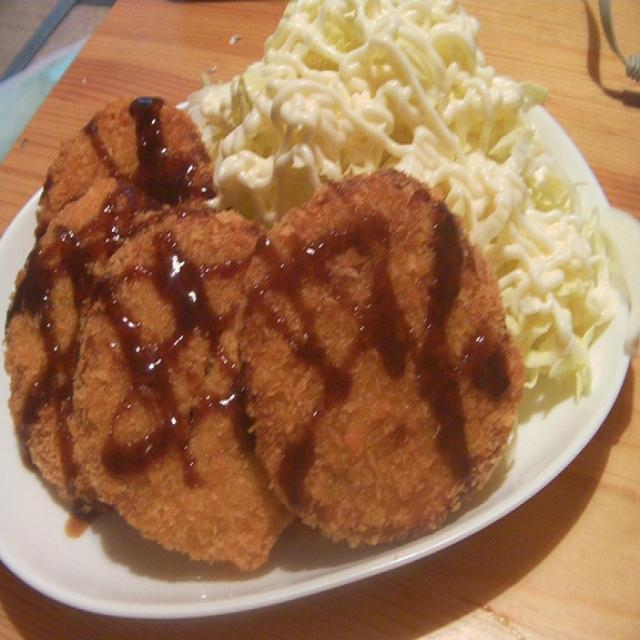炸货点心: (3, 4, 636, 626)
